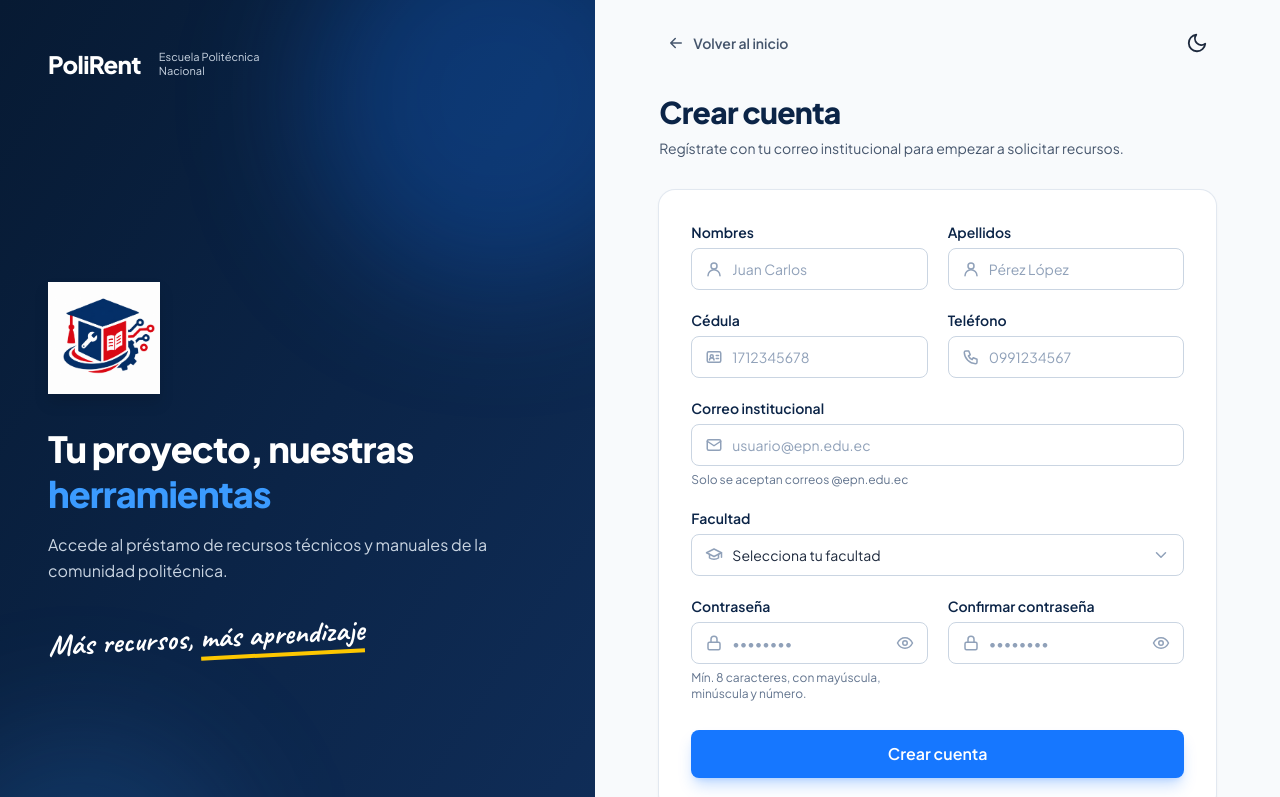
Scenario: Registro › detecta contraseñas que no coinciden
This screenshot has width=1280, height=797.
Step 1. Type "Clave1234" into the password field labelled "Contraseña" → (809, 643), box [691,622,928,664]
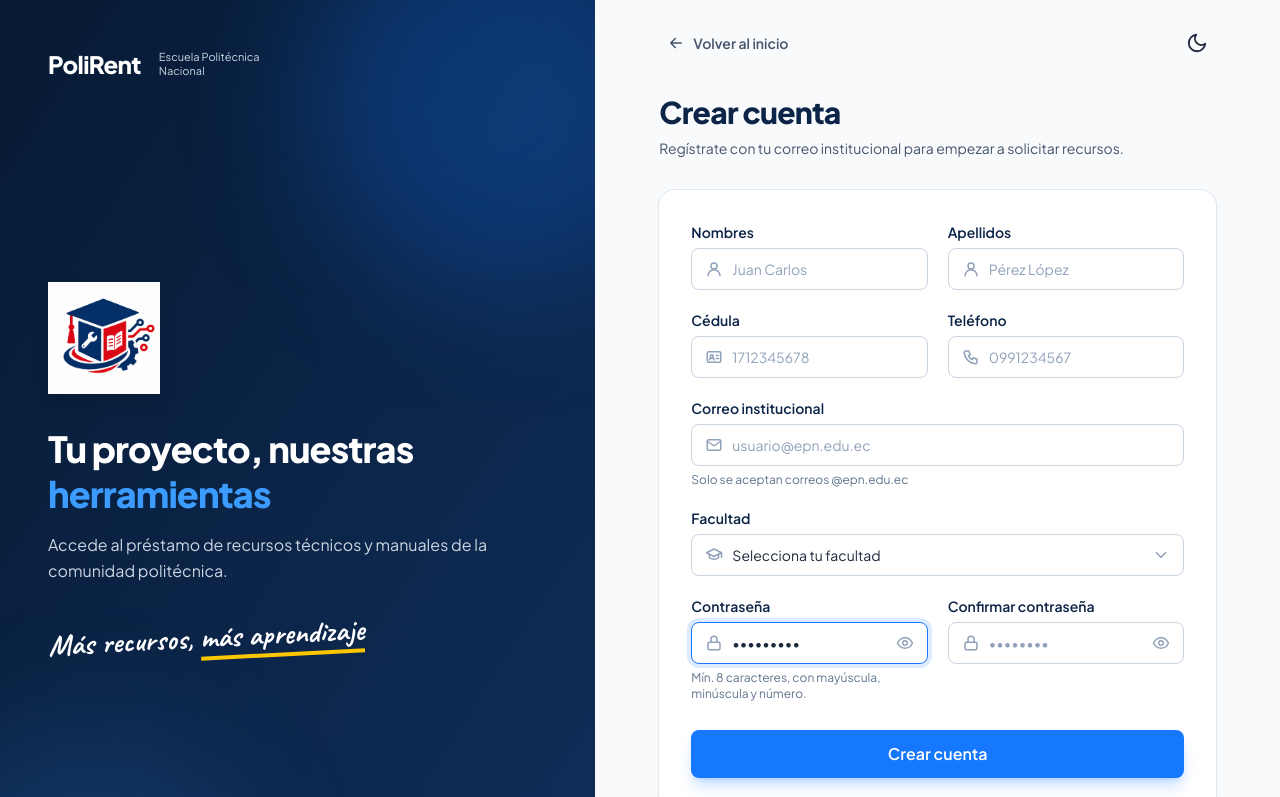
Step 2. Type "Clave9999" into the password field labelled "Confirmar contraseña" → (1066, 643), box [948,622,1184,664]
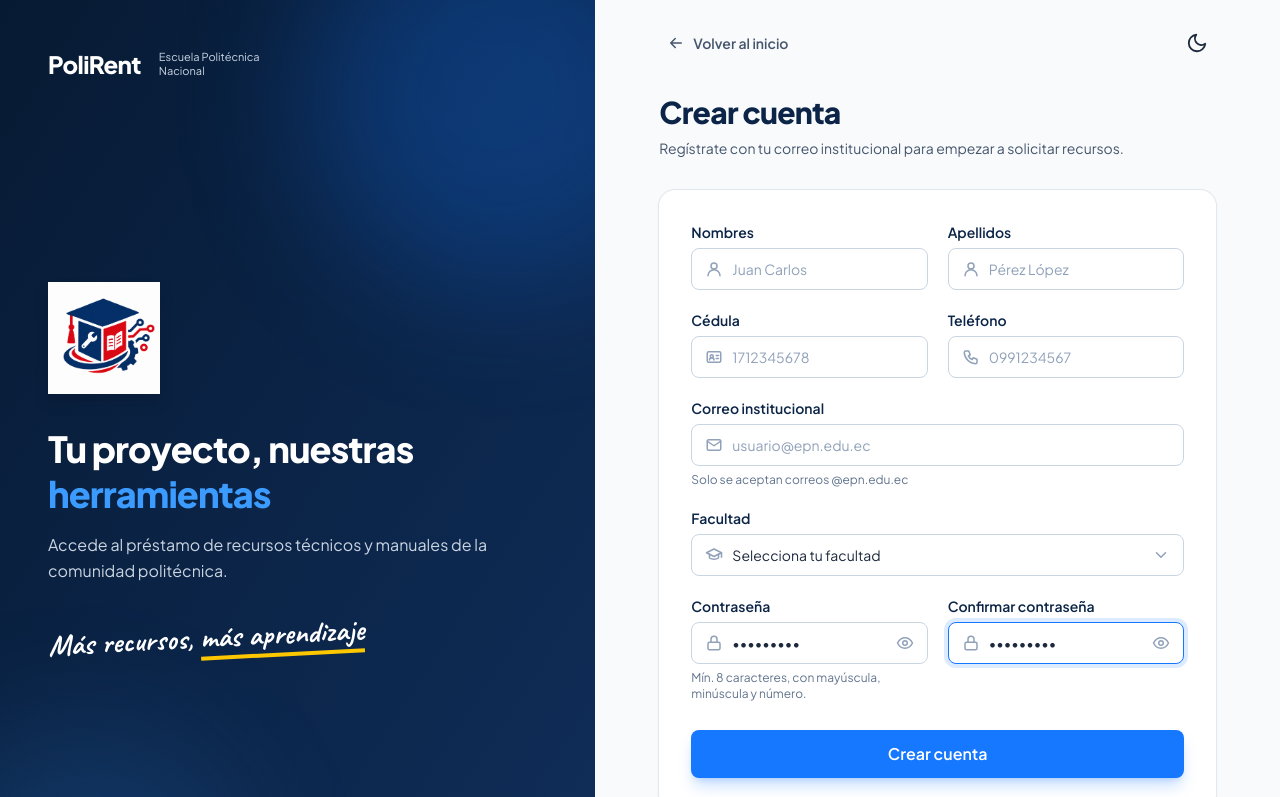
Step 3. Click the button "Crear cuenta" → click(938, 754), box [691,730,1184,778]
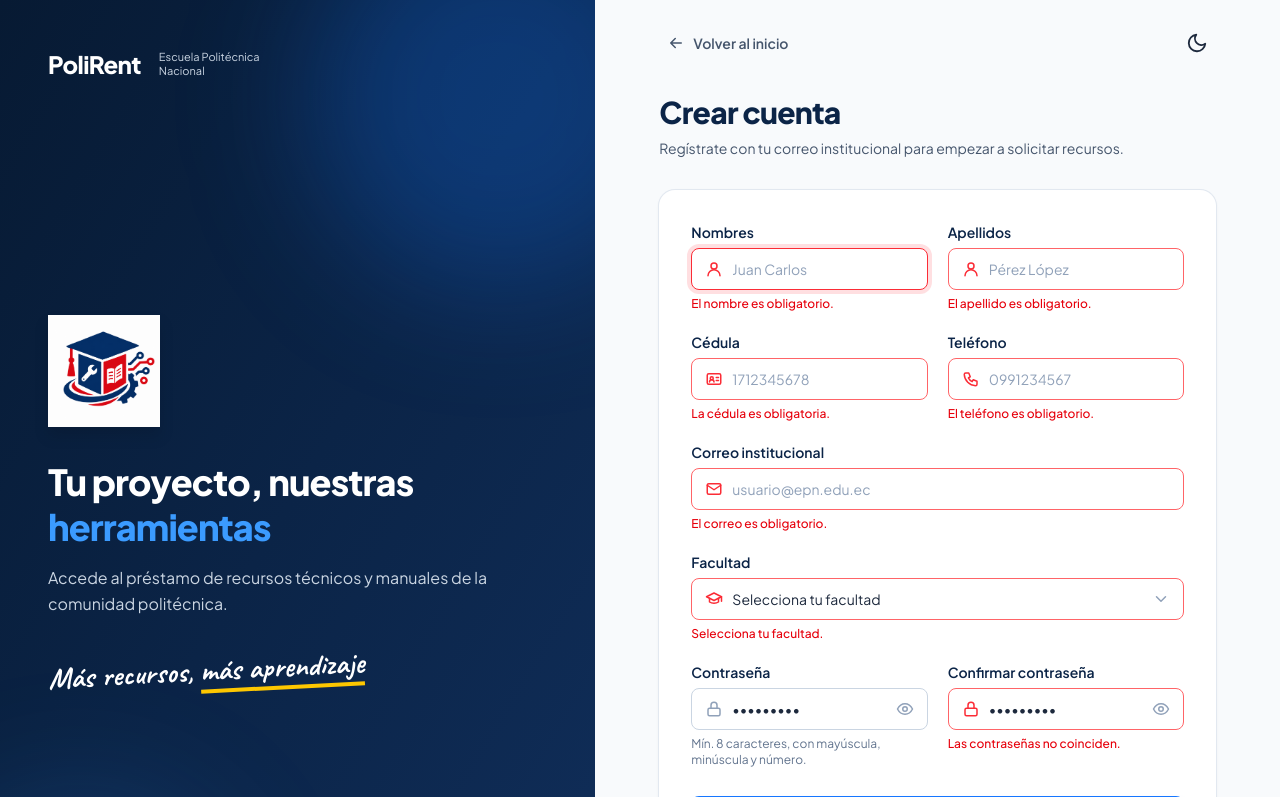
Expected: the text "Las contraseñas no coinciden." is shown, [948,736,1121,751]
